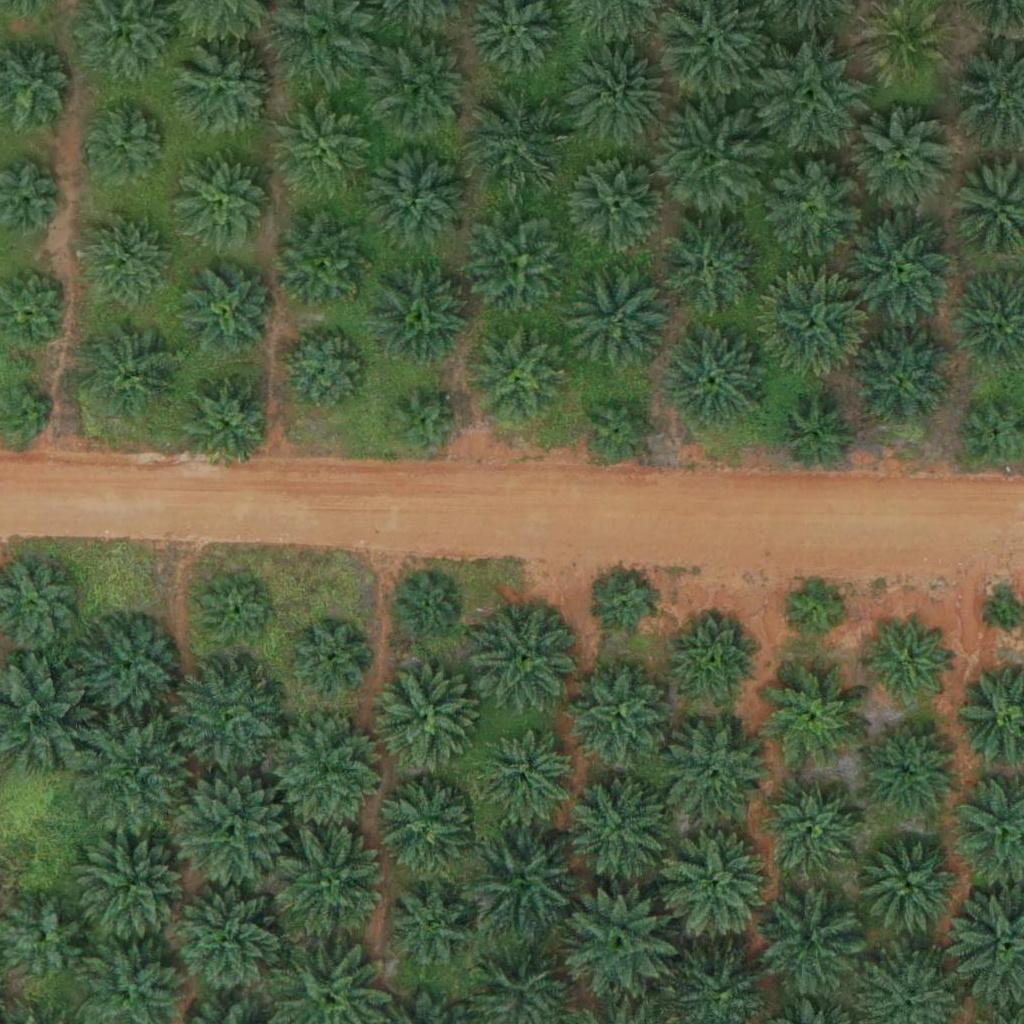Kelapa_Sawit: (73, 715, 198, 841), (167, 880, 292, 1006), (268, 822, 393, 948), (459, 813, 584, 939), (559, 882, 684, 1008), (655, 825, 780, 950), (756, 39, 869, 153), (79, 833, 192, 947), (845, 212, 958, 325), (271, 715, 384, 828), (174, 771, 286, 885), (758, 273, 870, 386), (653, 105, 765, 218), (169, 656, 281, 769), (852, 330, 952, 431), (661, 221, 761, 322), (665, 328, 765, 429), (567, 44, 667, 145), (568, 157, 668, 258), (568, 266, 668, 367), (467, 89, 567, 190), (469, 215, 569, 316), (469, 327, 569, 428), (375, 39, 475, 140), (369, 147, 469, 248), (370, 269, 470, 370), (276, 96, 376, 197), (275, 213, 375, 314), (174, 38, 274, 139), (173, 154, 273, 255), (376, 665, 476, 766), (375, 780, 475, 881), (478, 606, 578, 707), (472, 727, 572, 828), (569, 663, 669, 764), (569, 775, 669, 876), (664, 720, 764, 821), (766, 667, 866, 768), (761, 782, 861, 883), (762, 896, 862, 997), (858, 719, 958, 820), (860, 835, 960, 936), (856, 111, 956, 211), (762, 161, 862, 261), (176, 371, 276, 471), (82, 321, 182, 421), (77, 619, 177, 719), (382, 876, 482, 976), (861, 1, 949, 89), (281, 327, 369, 415), (1, 894, 89, 982), (863, 619, 951, 707), (186, 267, 273, 355), (80, 98, 167, 186), (82, 210, 169, 298), (675, 616, 762, 704), (198, 577, 273, 653), (387, 386, 462, 462), (295, 621, 370, 696), (779, 400, 854, 475), (583, 394, 658, 469), (396, 575, 459, 638), (596, 573, 658, 636), (782, 574, 844, 637)
